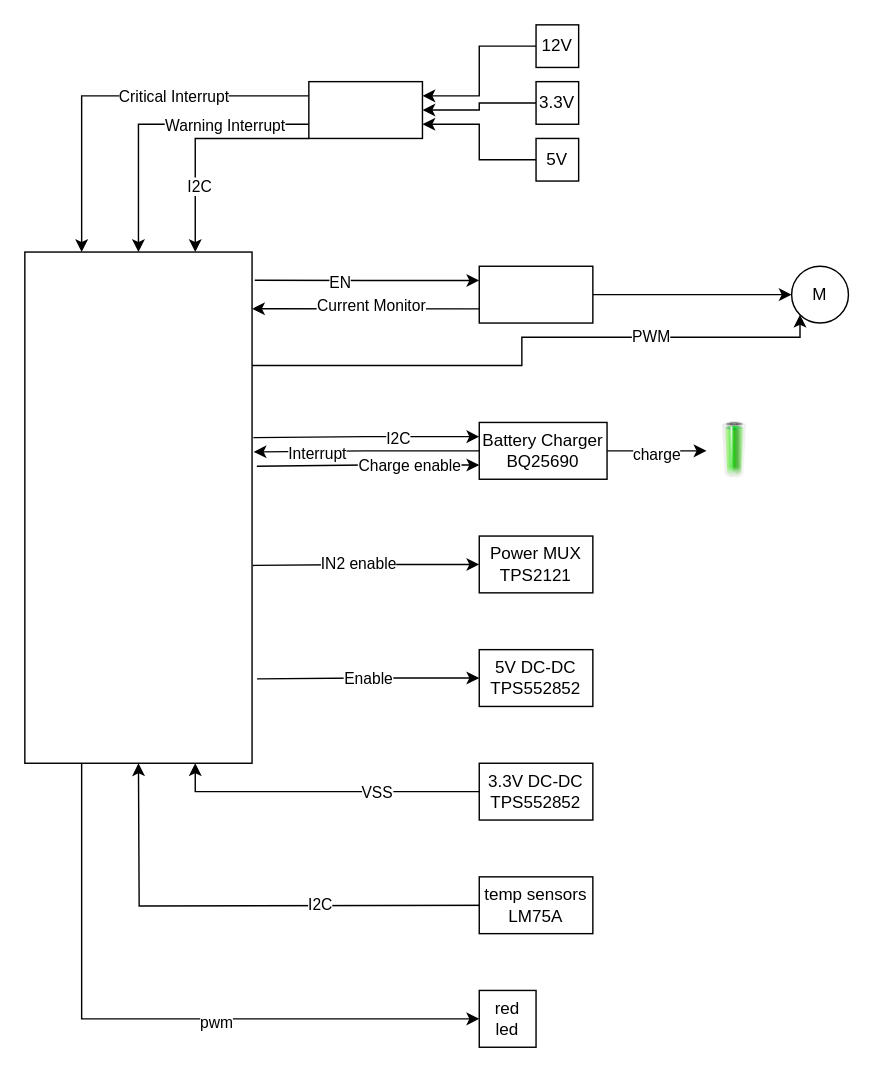
Image size: 873x1072. Some labels were removed from this diagram. Here are the shapes that lost their labels. From the top down, the centre of each, then its label:
At point (364, 109): "Power Monitor INA3221".
At point (535, 294): "eFUSE TPS259830O".
At point (137, 507): "HOST".
